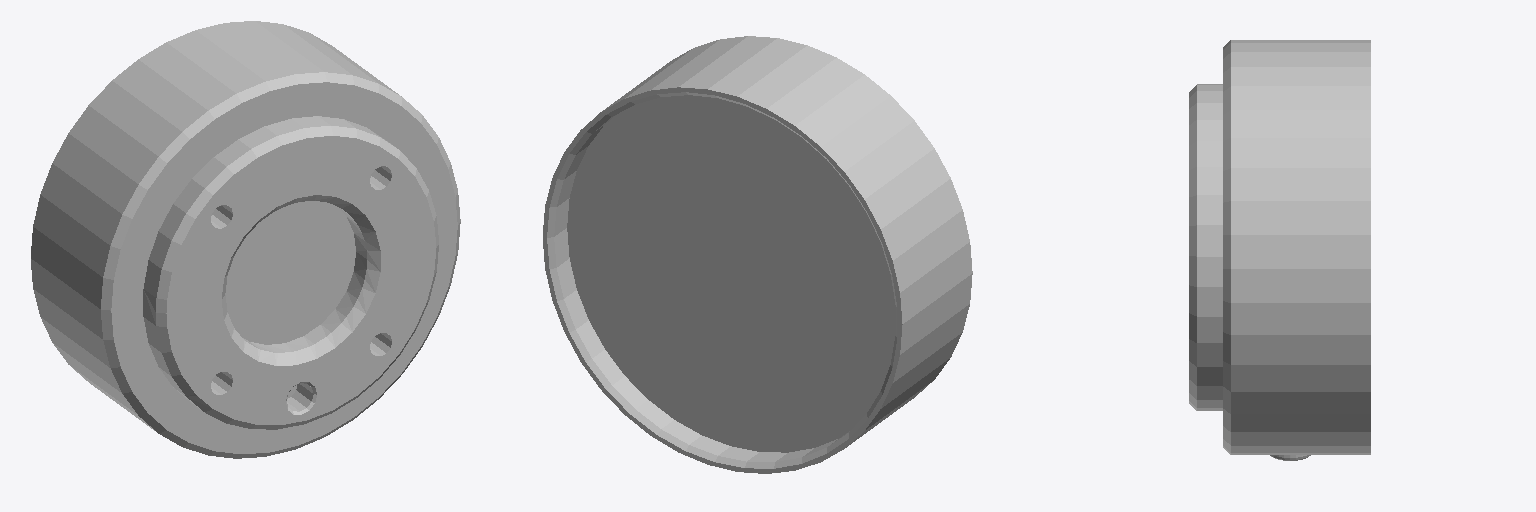
File: ARM7.obj
3 views of the same model, side by side, from view 1: azimuth 30°, elevation 25°; view 2: azimuth 150°, elevation 25°; view 3: azimuth 270°, elevation 25° (orthographic).
Parts seen in each view (by area): view 1: GBT-C7A-J6.001; view 2: GBT-C7A-J6.001; view 3: GBT-C7A-J6.001.
Boxes of the visible parts, x1=… form: GBT-C7A-J6.001: x1=31, y1=21, x2=460, y2=458; GBT-C7A-J6.001: x1=543, y1=36, x2=972, y2=473; GBT-C7A-J6.001: x1=1189, y1=40, x2=1370, y2=460.
Bounding box in the file's own units: 80 × 83.36 × 35.